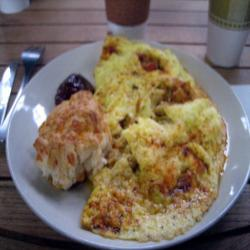omelette: (79, 37, 220, 237)
